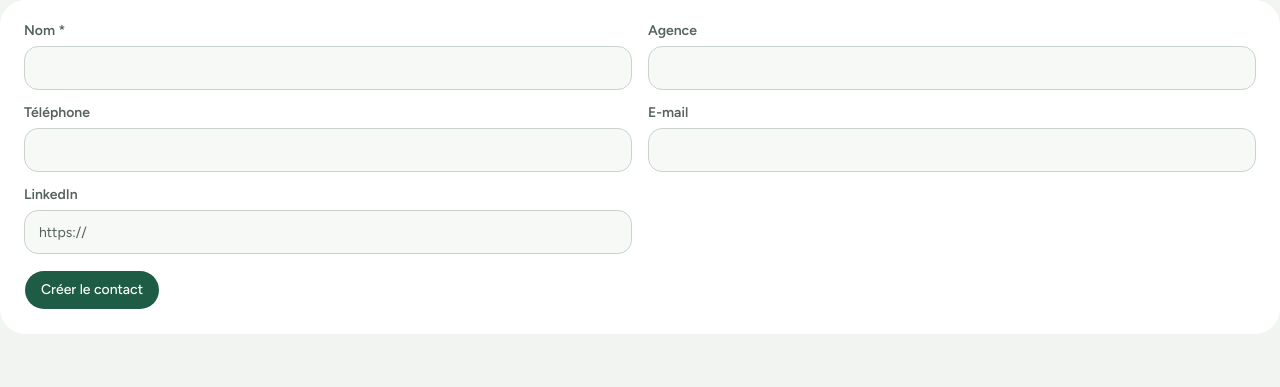
Test: NewContactForm › shows the error returned by the action
The width and height of the screenshot is (1280, 387).
Type "Jeanne Martin" into the field labelled "Nom *" at (328, 68), box [24, 46, 632, 90]
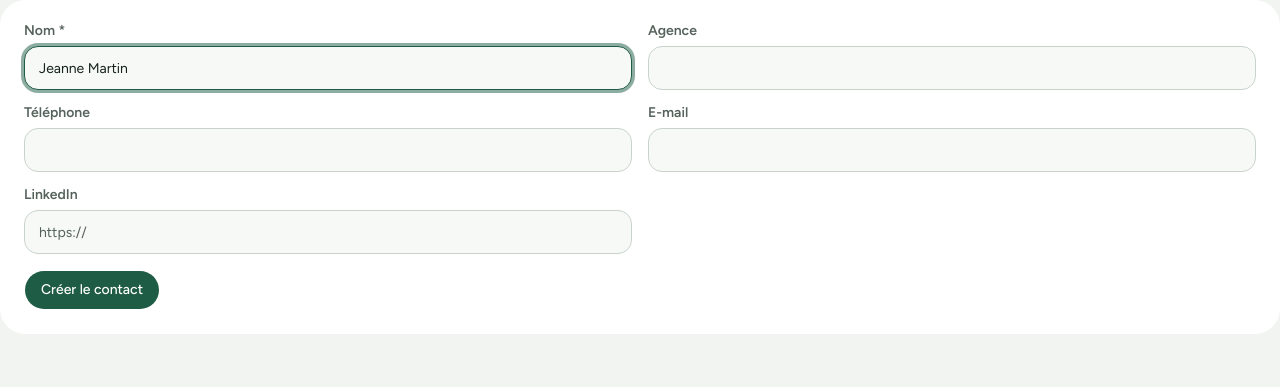
Click the button "Créer le contact" at (92, 290), box [24, 270, 160, 310]
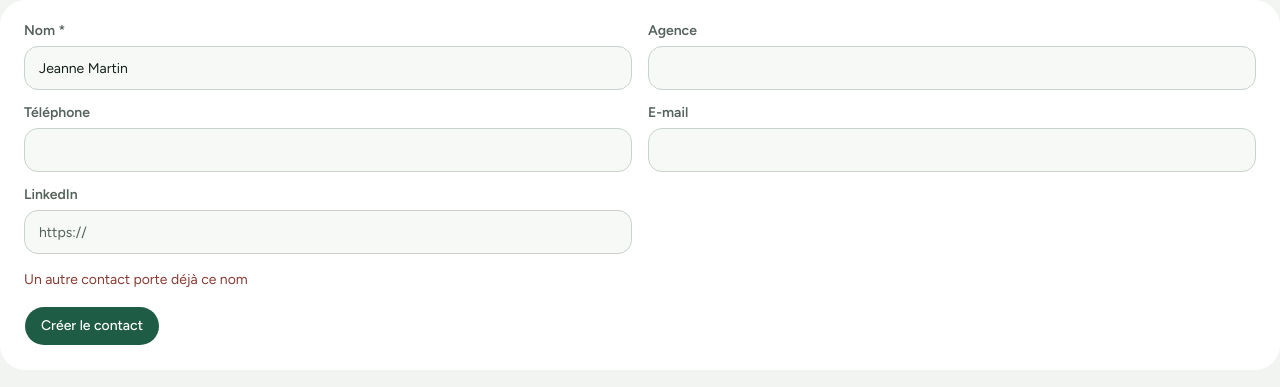
Expected: the message reads "Un autre contact porte déjà ce nom", [24, 271, 248, 288]
